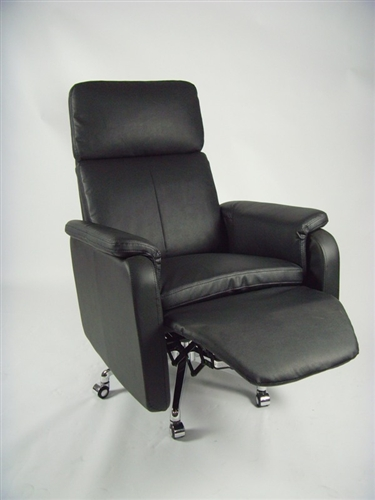chairs: (67, 78, 361, 446)
